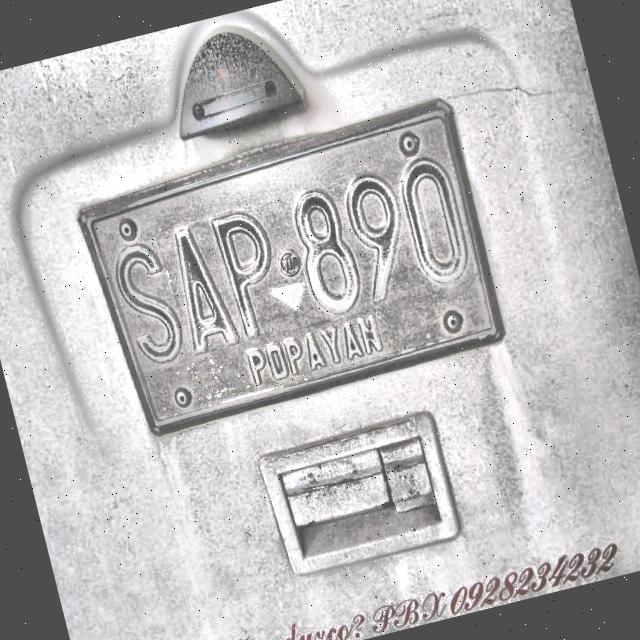0: (395, 150, 478, 289)
8: (282, 181, 371, 321)
9: (335, 165, 421, 308)
A: (163, 219, 246, 357)
P: (203, 200, 279, 341)
S: (104, 231, 190, 370)
